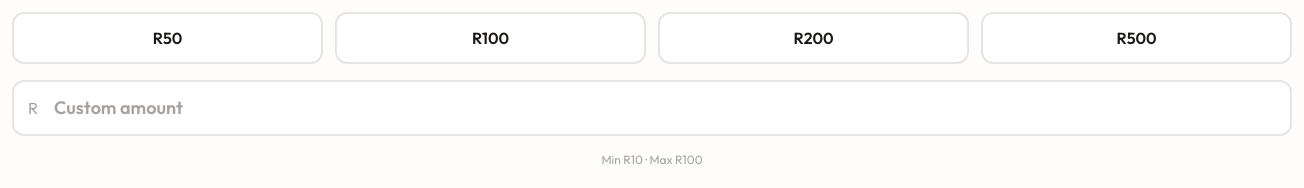
Test case: AmountSelector component › shows error when amount exceeds maximum
Type "200" into the field with placeholder "Custom amount" at (652, 108), box [12,80,1292,136]
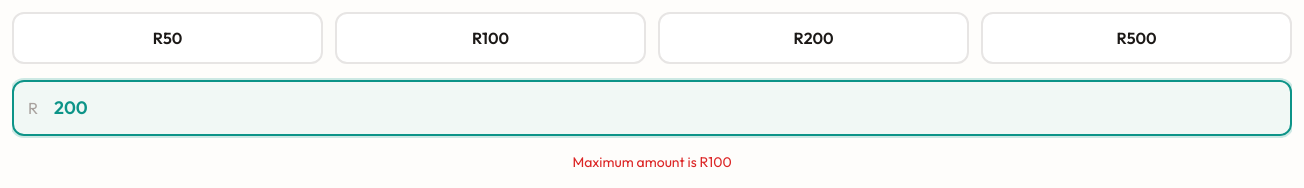
expect the message reads "Maximum amount is R100": met, box [572,153,732,171]
